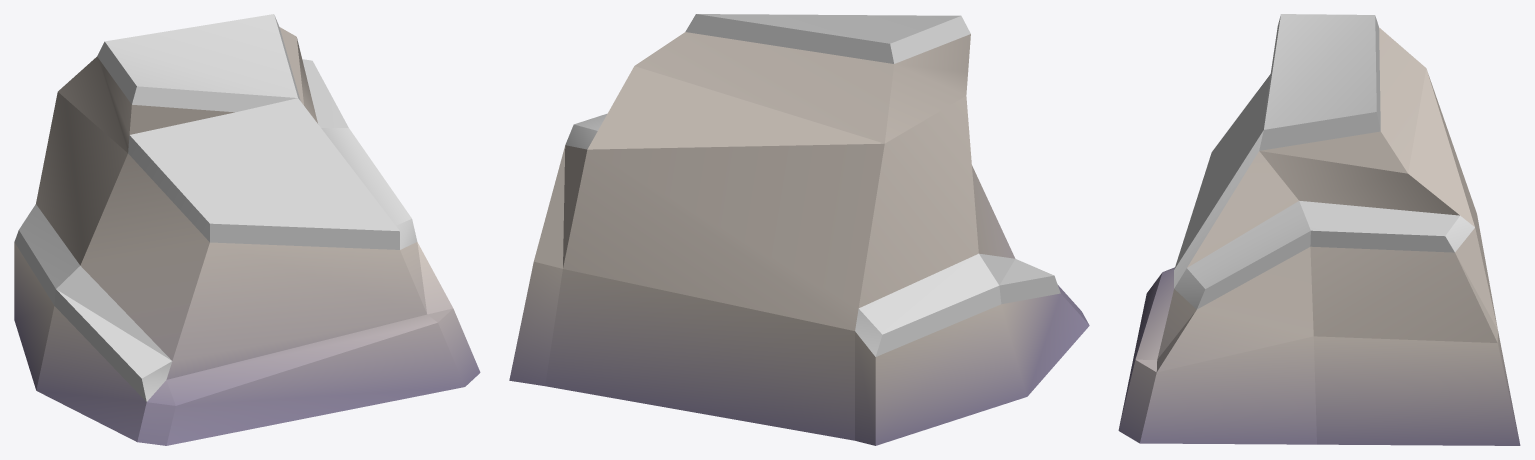
Rendered from rock1.fbx.
3 views of the same model, side by side, from view 1: azimuth 30°, elevation 25°; view 2: azimuth 150°, elevation 25°; view 3: azimuth 270°, elevation 25° (orthographic). The views are drawn at different scales.
Parts seen in each view (by area): view 1: Rock1; view 2: Rock1; view 3: Rock1.
Boxes of the visible parts, <box> form: Rock1: <box>14,14,480,445</box>; Rock1: <box>509,14,1089,445</box>; Rock1: <box>1118,14,1520,445</box>.
Bounding box in the file's own units: 343 × 282 × 338.
